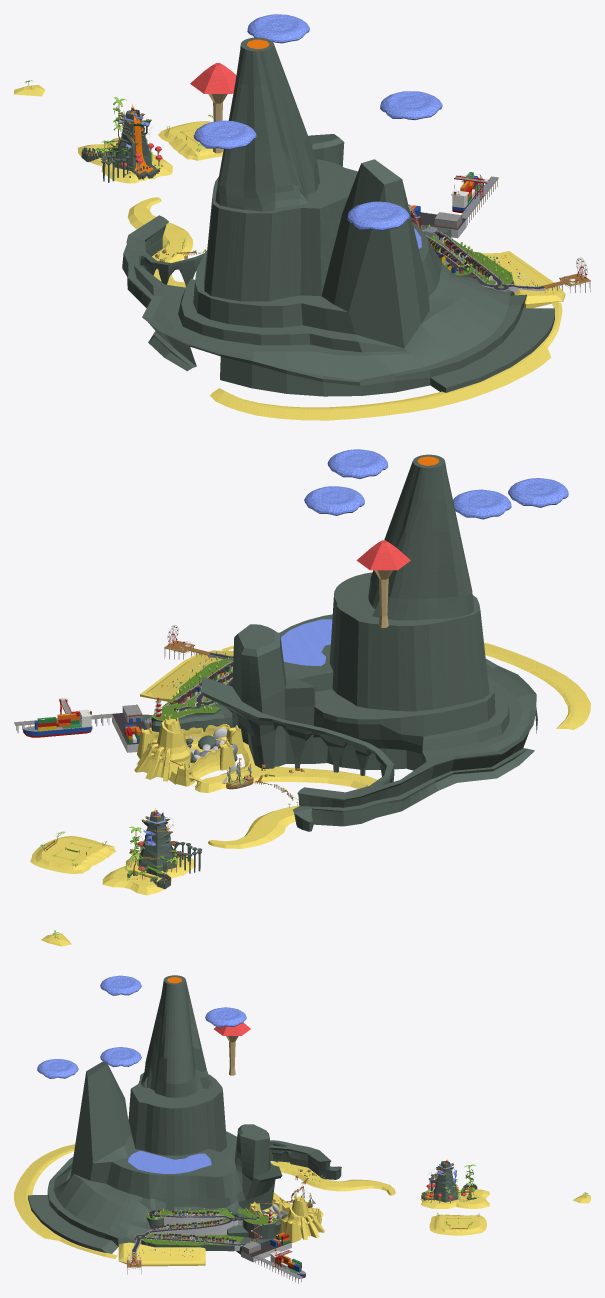
The model's file is level.glb.
The picture shows the model from 3 angles, top to bottom: view 1: azimuth 30°, elevation 25°; view 2: azimuth 150°, elevation 25°; view 3: azimuth 270°, elevation 25°; orthographic projection. The views are drawn at different scales.
Visible parts, largest first — view 1: rock.mesh, sand.mesh, clouds.mesh, old.mainIsland.rock.mesh, amusementPier.sand.mesh, wizardTower.mesh, old.volleyIsland.sand.mesh, old.mainIsland.sand.mesh, seasideTown.roads.mesh, modernDocks.yard.mesh, seasideTown.houses.mesh, seasideTown.terraces.mesh; view 2: rock.mesh, clouds.mesh, sand.mesh, sandCastle.sand.mesh, old.volleyIsland.sand.mesh, old.mainIsland.rock.mesh, wizardTower.mesh, amusementPier.sand.mesh, old.mainIsland.sand.mesh, modernDocks.ship.mesh, modernDocks.yard.mesh, sandCastle.rock.mesh (+2 smaller); view 3: rock.mesh, clouds.mesh, sand.mesh, seasideTown.roads.mesh, sandCastle.sand.mesh, amusementPier.sand.mesh, seasideTown.terraces.mesh, old.volleyIsland.sand.mesh, seasideTown.houses.mesh, old.mainIsland.rock.mesh, old.mainIsland.sand.mesh, modernDocks.yard.mesh (+4 smaller).
Boxes of the visible parts, box(x1,y1,x2,y2) form: rock.mesh: box(122, 37, 554, 396); sand.mesh: box(127, 197, 562, 420); clouds.mesh: box(194, 14, 442, 248); old.mainIsland.rock.mesh: box(81, 109, 162, 182); amusementPier.sand.mesh: box(482, 251, 565, 308); wizardTower.mesh: box(190, 63, 236, 153); old.volleyIsland.sand.mesh: box(158, 121, 223, 160); old.mainIsland.sand.mesh: box(77, 137, 172, 183); seasideTown.roads.mesh: box(425, 227, 545, 292); modernDocks.yard.mesh: box(411, 176, 499, 238); seasideTown.houses.mesh: box(427, 231, 492, 279); seasideTown.terraces.mesh: box(430, 236, 513, 284); rock.mesh: box(142, 454, 537, 831); clouds.mesh: box(281, 449, 568, 665); sand.mesh: box(195, 642, 590, 848); sandCastle.sand.mesh: box(134, 716, 244, 787); old.volleyIsland.sand.mesh: box(30, 836, 116, 873); old.mainIsland.rock.mesh: box(127, 810, 202, 889); wizardTower.mesh: box(356, 540, 410, 627); amusementPier.sand.mesh: box(140, 650, 233, 701); old.mainIsland.sand.mesh: box(102, 852, 193, 895); modernDocks.ship.mesh: box(23, 709, 92, 737); modernDocks.yard.mesh: box(14, 713, 146, 752); sandCastle.rock.mesh: box(185, 728, 237, 771); rock.mesh: box(28, 975, 341, 1254); clouds.mesh: box(37, 975, 246, 1173); sand.mesh: box(14, 1144, 395, 1258); seasideTown.roads.mesh: box(131, 1214, 249, 1253); sandCastle.sand.mesh: box(249, 1195, 324, 1242); amusementPier.sand.mesh: box(118, 1242, 205, 1266); seasideTown.terraces.mesh: box(141, 1209, 243, 1251); old.volleyIsland.sand.mesh: box(429, 1214, 486, 1235); seasideTown.houses.mesh: box(149, 1209, 236, 1243); old.mainIsland.rock.mesh: box(421, 1161, 477, 1202); old.mainIsland.sand.mesh: box(420, 1189, 489, 1208); modernDocks.yard.mesh: box(241, 1238, 303, 1283).
Size of what is drawn, in the model's own units: 1262 by 817 by 2164.
Materials: 23 (23 with a texture image).
